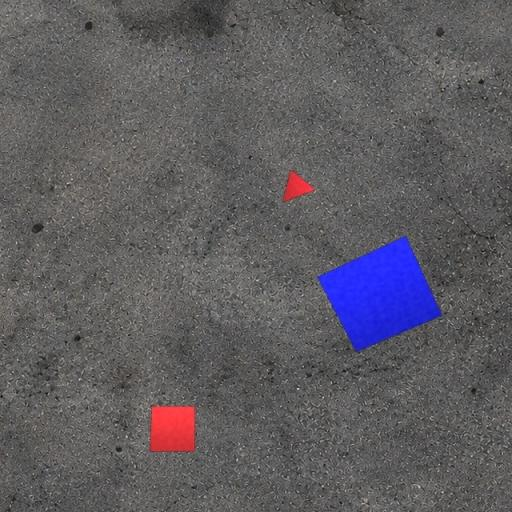BLUE_SQUARE: (317, 235, 443, 352)
RED_SQUARE: (149, 406, 196, 452)
